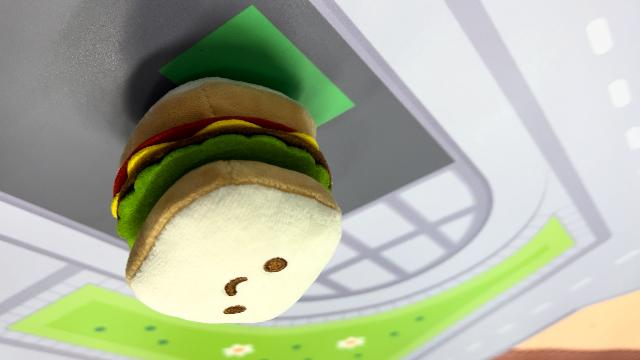sandwich: (108, 74, 346, 324)
